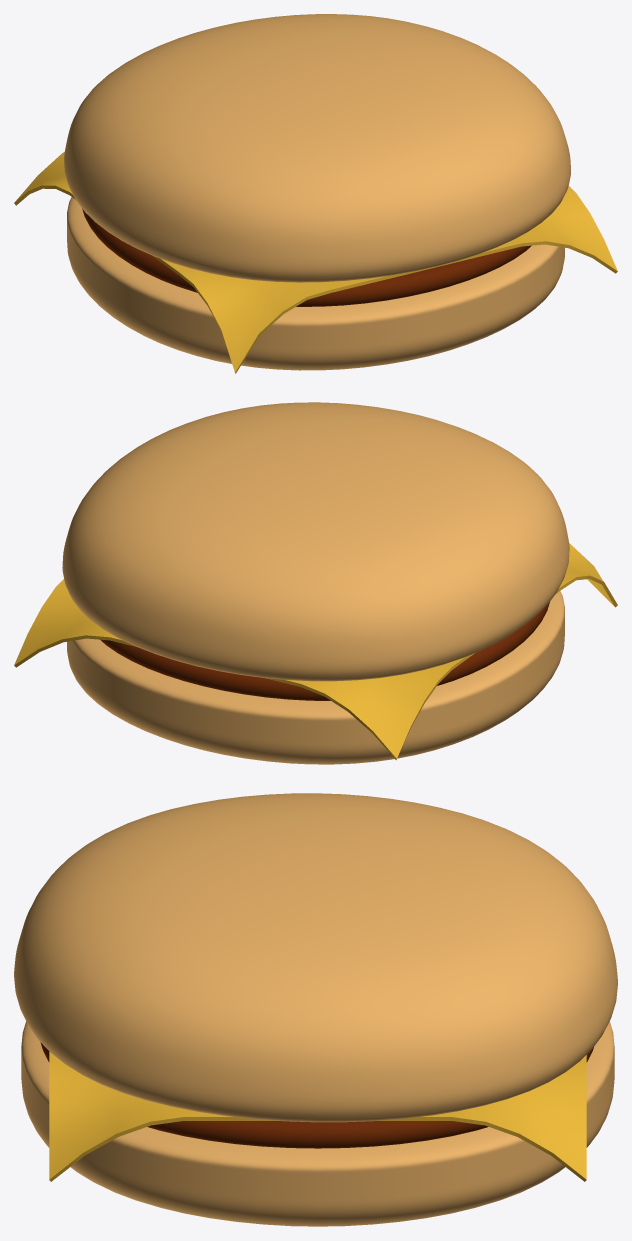
File: hamburger.glb
The picture shows the model from 3 angles, top to bottom: view 1: azimuth 30°, elevation 25°; view 2: azimuth 150°, elevation 25°; view 3: azimuth 270°, elevation 25°; orthographic projection. The views are drawn at different scales.
Parts seen in each view (by area): view 1: Cube.002, Cube, Plane, Cube.001; view 2: Cube.002, Cube, Plane, Cube.001; view 3: Cube.002, Cube, Plane, Cube.001.
Boxes of the visible parts, x1=… form: Cube.002: x1=64, y1=14, x2=570, y2=282; Cube: x1=67, y1=197, x2=564, y2=370; Plane: x1=14, y1=152, x2=617, y2=373; Cube.001: x1=82, y1=208, x2=531, y2=306; Cube.002: x1=62, y1=402, x2=569, y2=681; Cube: x1=67, y1=591, x2=564, y2=764; Plane: x1=14, y1=543, x2=617, y2=760; Cube.001: x1=100, y1=602, x2=549, y2=700; Cube.002: x1=14, y1=793, x2=617, y2=1122; Cube: x1=21, y1=1021, x2=614, y2=1226; Plane: x1=49, y1=1051, x2=586, y2=1181; Cube.001: x1=40, y1=1042, x2=593, y2=1148.
Size of the model in its own units: 11.26 by 5.77 by 11.25.
